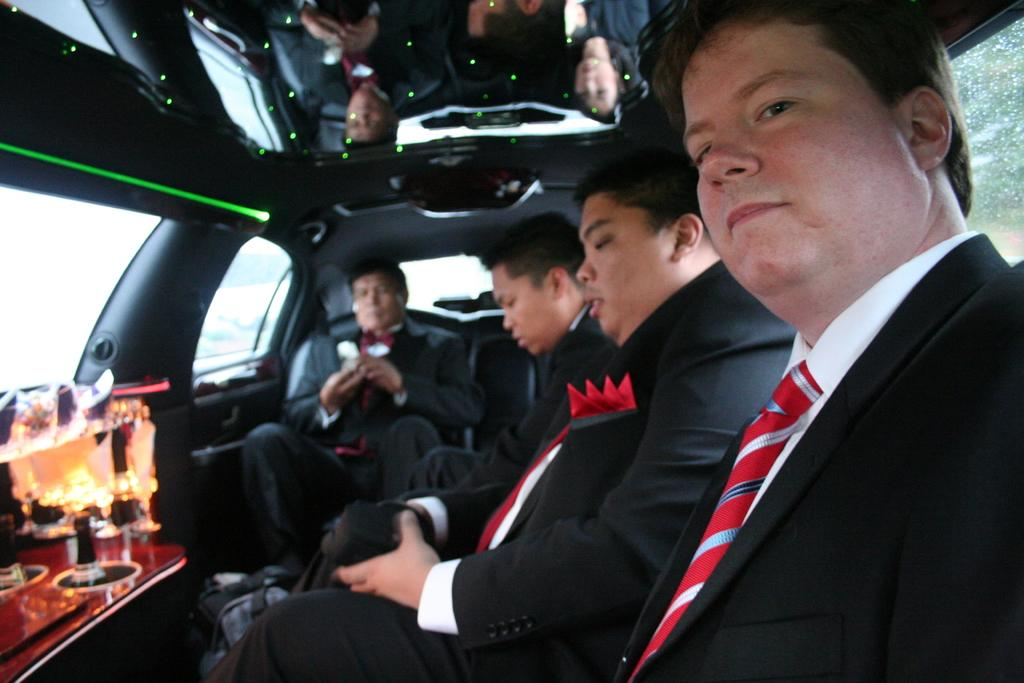Sem Máscara: (680, 18, 924, 296), (573, 187, 674, 340), (489, 260, 557, 352), (349, 267, 400, 328)
